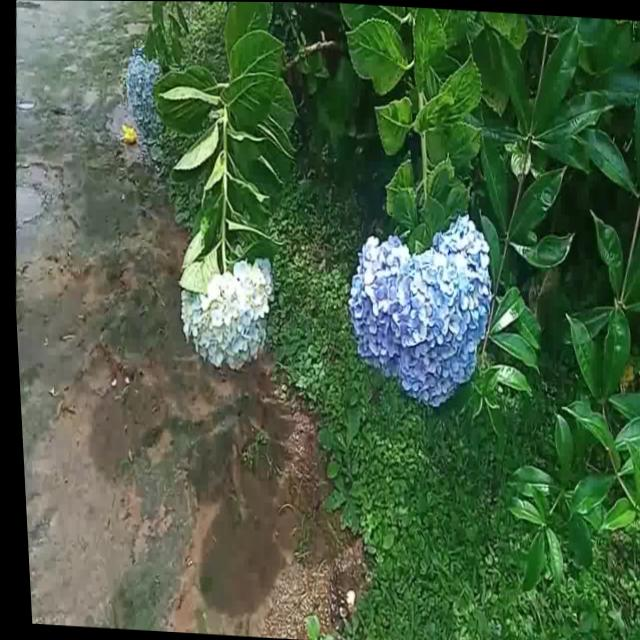Flower: (338, 197, 501, 419), (173, 247, 277, 377), (118, 47, 169, 127)
